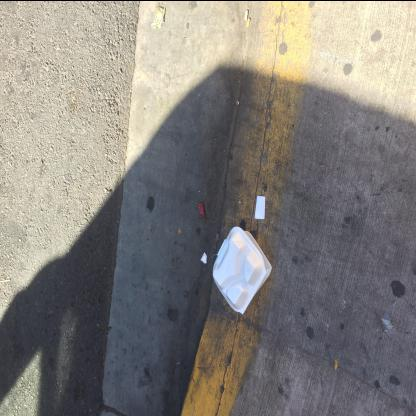kagit: (254, 194, 266, 220)
kopuk: (212, 224, 274, 315)
